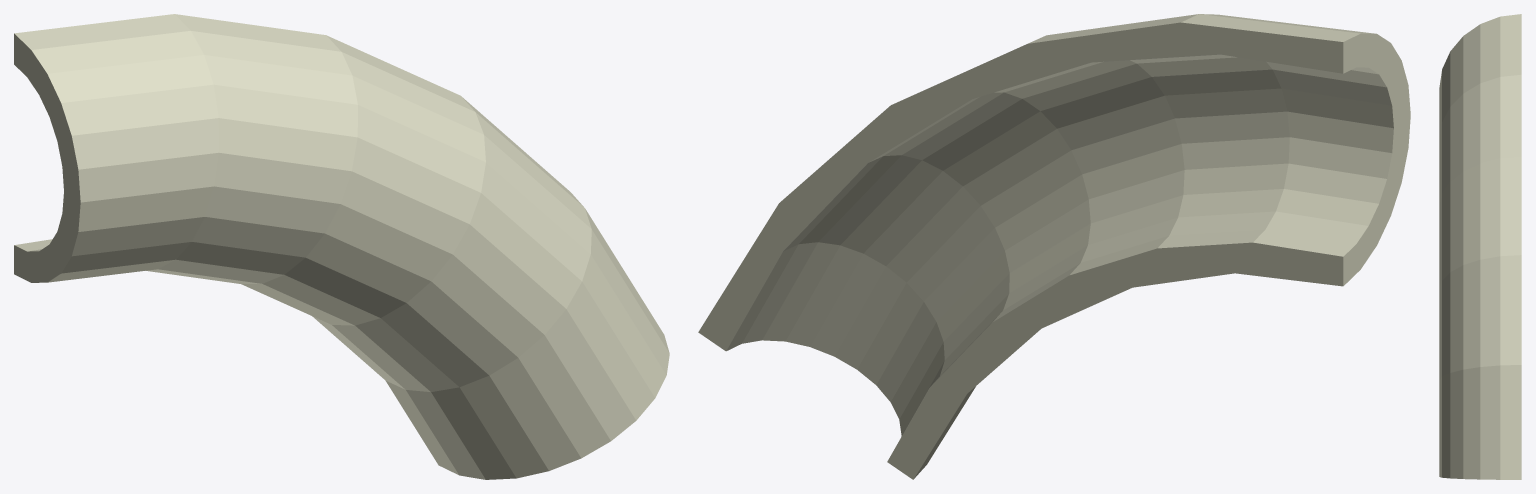
File: section_158.obj
3 views of the same model, side by side, from view 1: azimuth 30°, elevation 25°; view 2: azimuth 150°, elevation 25°; view 3: azimuth 270°, elevation 25° (orthographic). The views are drawn at different scales.
Bounding box in the file's own units: 22.11 × 17.77 × 4.
